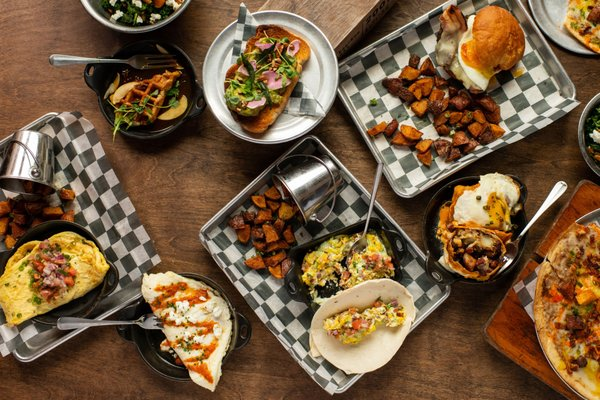salad: (49, 50, 176, 69)
sushi: (337, 0, 582, 199), (203, 6, 339, 145), (84, 45, 206, 145), (81, 0, 192, 36), (577, 90, 600, 180)
